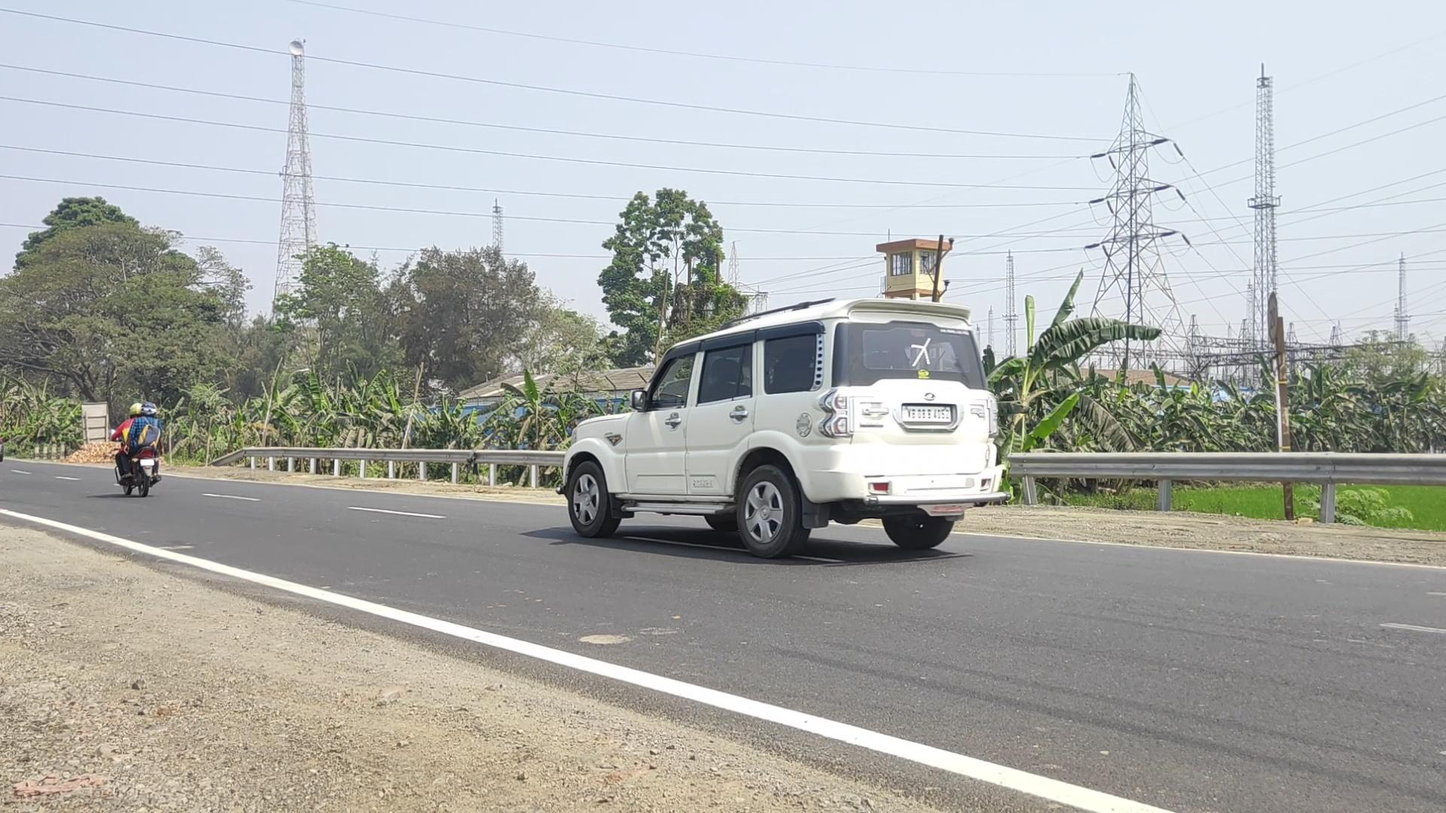bike: (111, 401, 163, 498)
car: (557, 297, 1011, 559)
